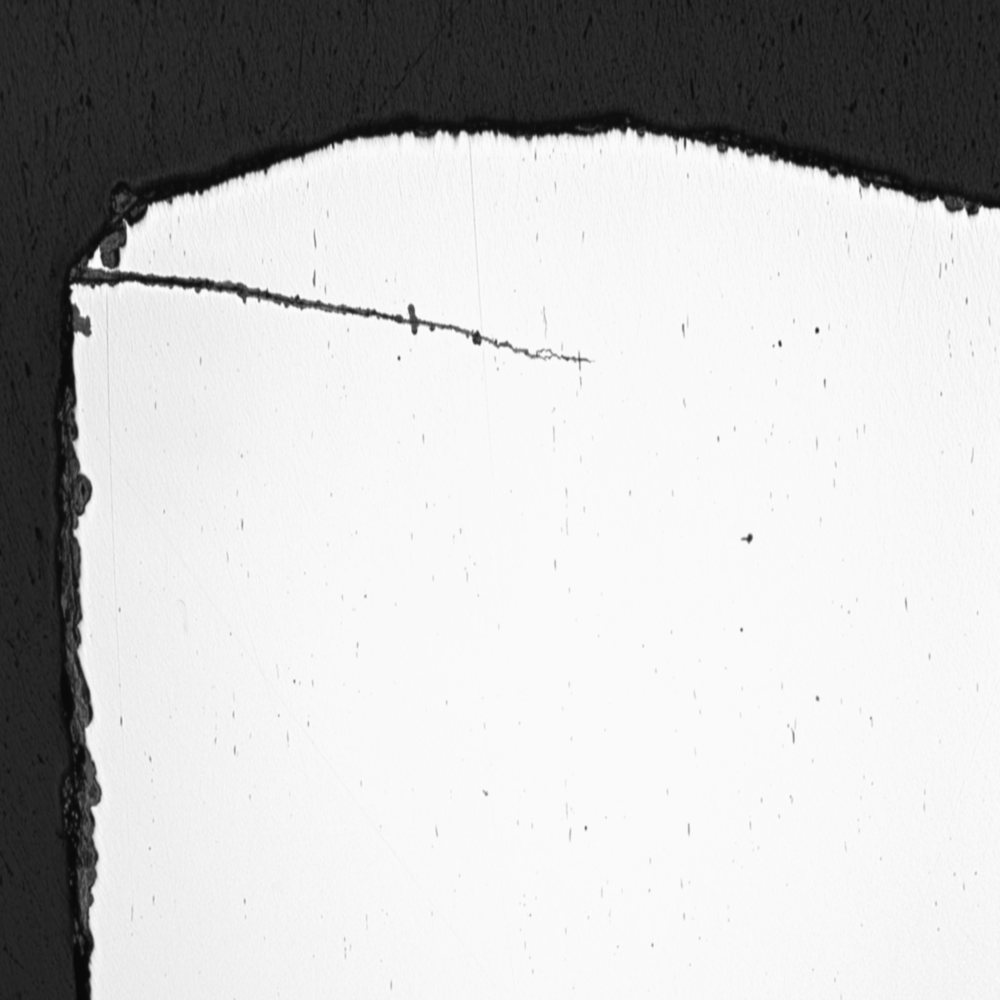crack: (59, 232, 615, 395)
